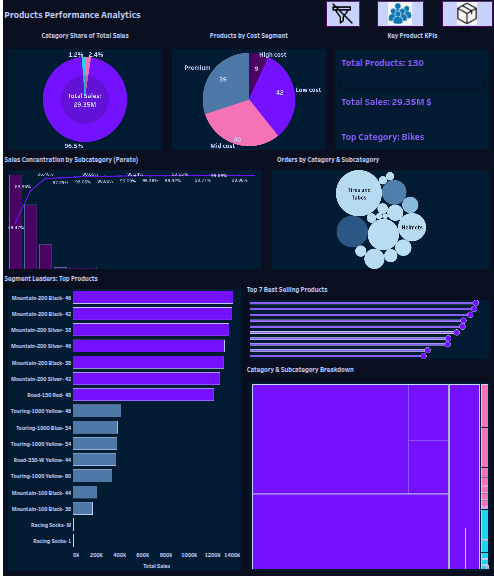

Layout of this report page (visuals, bound fields, positions):
{"tool":"tableau","page":{"name":"Products Performance Analytics","canvas":[1000,1000],"units":"permille","ordinal":1},"visuals":[{"type":"text","box":[22.4,25.7,624.4,60.7]},{"type":"dashboard-object","box":[646.8,25.7,68.4,60.7]},{"type":"blank","box":[715.2,25.7,27.4,60.7]},{"type":"dashboard-object","box":[742.6,25.7,92.7,60.7]},{"type":"blank","box":[835.2,25.7,28.6,60.7]},{"type":"dashboard-object","box":[863.8,25.7,100.1,60.7]},{"type":"text","box":[725.9,28.6,245.7,34.3]},{"type":"text","box":[725.9,62.9,245.7,29.3]},{"type":"text","box":[22.4,86.4,318.4,35]},{"type":"text","box":[340.8,86.4,318.4,35]},{"type":"text","box":[659.2,86.4,318.4,35]},{"type":"filter","title":"Category Share of Total Sales","param":"[federated.0opjshp16uwzac19zrqnv0ngi44r].[none:category:nk]","box":[725.9,92.1,245.7,68.6]},{"type":"worksheet","title":"Category Share of Total Sales","mark":"Pie","cols":["Calculation_0427751699083267","Calculation_0427751699083267"],"box":[22.4,121.4,318.4,235]},{"type":"worksheet","title":"Cost Segment Distribution","mark":"Pie","cols":["Calculation_0427751705505799","Calculation_0427751705505799"],"box":[340.8,121.4,318.4,235]},{"type":"worksheet","title":"Total Products","mark":"Automatic","box":[674.1,138.6,288.6,50]},{"type":"blank","box":[725.9,160.7,245.7,17.1]},{"type":"filter","title":"Category Share of Total Sales","param":"[federated.0opjshp16uwzac19zrqnv0ngi44r].[none:subcategory:nk]","box":[725.9,177.8,245.7,48.6]},{"type":"blank","box":[674.1,188.6,288.6,32.9]},{"type":"worksheet","title":"Total Sales","mark":"Automatic","box":[674.1,221.4,288.6,43.6]},{"type":"blank","box":[725.9,226.4,245.7,22.9]},{"type":"text","box":[725.9,249.3,245.7,24.3]},{"type":"blank","box":[674.1,265,288.6,32.1]},{"type":"blank","box":[725.9,273.5,245.7,22.9]},{"type":"filter","title":"Category Share of Total Sales","param":"[federated.0opjshp16uwzac19zrqnv0ngi44r].[none:product_segment:nk]","box":[725.9,296.4,245.7,72.9]},{"type":"worksheet","title":"Top Category","mark":"Text","box":[674.1,297.2,288.6,42.1]},{"type":"text","box":[22.4,356.4,530.4,24.3]},{"type":"text","box":[552.8,356.4,424.9,24.3]},{"type":"blank","box":[725.9,369.2,245.7,22.9]},{"type":"worksheet","title":"Subcategory Perreto Chart","mark":"Bar","rows":["total_sales","total_sales"],"cols":["subcategory"],"box":[22.4,380.7,513.1,230.7]},{"type":"worksheet","title":"Product Lifespan vs Total Sales (scatter plot)","mark":"Circle","box":[535.5,380.7,442.1,230.7]},{"type":"filter","title":"Category Share of Total Sales","param":"[federated.0opjshp16uwzac19zrqnv0ngi44r].[none:cost_segment:nk]","box":[725.9,392.1,245.7,89.3]},{"type":"text","box":[22.4,611.4,955.2,23.6]},{"type":"worksheet","title":"Best Sellers  From Each Product Segment","mark":"Automatic","rows":["product_name"],"cols":["total_sales"],"box":[22.4,635,452.1,339.2]},{"type":"text","box":[474.5,635,503.1,24.3]},{"type":"worksheet","title":"Top 7 Best Selling Products","mark":"Automatic","rows":["product_name"],"cols":["total_sales","total_sales"],"box":[474.5,659.3,503.1,145]},{"type":"text","box":[474.5,804.3,503.1,30]},{"type":"worksheet","title":"Sales Breakdown by Category & Subcategory","mark":"Square","box":[474.5,834.3,503.1,140]}]}

Visuals, with their boxes on the dashboard's canvas, which has no fixed pixel size, in thousandths of its width and height (x1, y1, x2, y2). These are canvas units, not pixel positions in the 494x577 screenshot, which may show the page scaled, cropped or inside an application window:
text: Rect(22, 26, 647, 86)
dashboard-object: Rect(647, 26, 715, 86)
blank: Rect(715, 26, 743, 86)
dashboard-object: Rect(743, 26, 835, 86)
blank: Rect(835, 26, 864, 86)
dashboard-object: Rect(864, 26, 964, 86)
text: Rect(726, 29, 972, 63)
text: Rect(726, 63, 972, 92)
text: Rect(22, 86, 341, 121)
text: Rect(341, 86, 659, 121)
text: Rect(659, 86, 978, 121)
"Category Share of Total Sales" filter: Rect(726, 92, 972, 161)
"Category Share of Total Sales" worksheet (Pie marks): Rect(22, 121, 341, 356)
"Cost Segment Distribution" worksheet (Pie marks): Rect(341, 121, 659, 356)
"Total Products" worksheet: Rect(674, 139, 963, 189)
blank: Rect(726, 161, 972, 178)
"Category Share of Total Sales" filter: Rect(726, 178, 972, 226)
blank: Rect(674, 189, 963, 222)
"Total Sales" worksheet: Rect(674, 221, 963, 265)
blank: Rect(726, 226, 972, 249)
text: Rect(726, 249, 972, 274)
blank: Rect(674, 265, 963, 297)
blank: Rect(726, 274, 972, 296)
"Category Share of Total Sales" filter: Rect(726, 296, 972, 369)
"Top Category" worksheet (Text marks): Rect(674, 297, 963, 339)
text: Rect(22, 356, 553, 381)
text: Rect(553, 356, 978, 381)
blank: Rect(726, 369, 972, 392)
"Subcategory Perreto Chart" worksheet (Bar marks): Rect(22, 381, 536, 611)
"Product Lifespan vs Total Sales (scatter plot)" worksheet (Circle marks): Rect(536, 381, 978, 611)
"Category Share of Total Sales" filter: Rect(726, 392, 972, 481)
text: Rect(22, 611, 978, 635)
"Best Sellers  From Each Product Segment" worksheet: Rect(22, 635, 474, 974)
text: Rect(474, 635, 978, 659)
"Top 7 Best Selling Products" worksheet: Rect(474, 659, 978, 804)
text: Rect(474, 804, 978, 834)
"Sales Breakdown by Category & Subcategory" worksheet (Square marks): Rect(474, 834, 978, 974)
